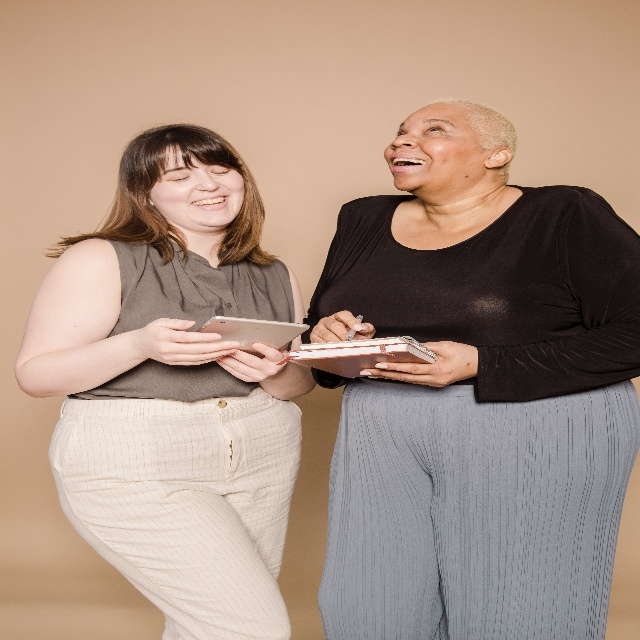Sin_guantes: (360, 332, 478, 390), (143, 316, 239, 367), (215, 329, 289, 386), (308, 312, 375, 345)
